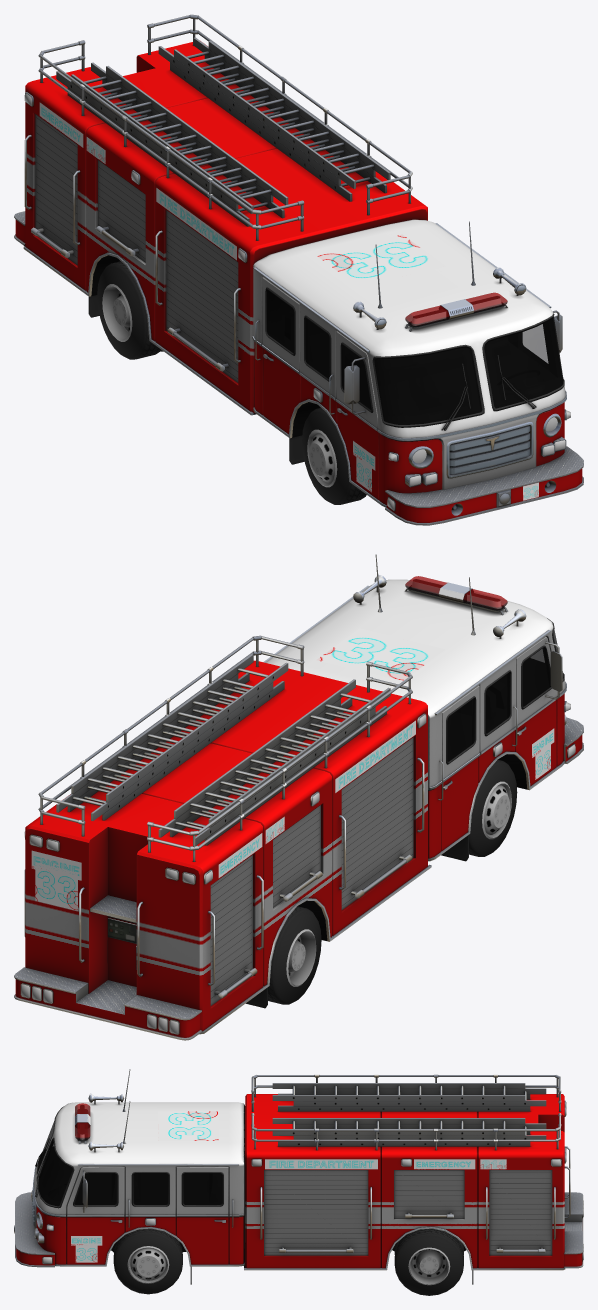
File: firetruck.fbx
The picture shows the model from 3 angles, top to bottom: view 1: azimuth 30°, elevation 25°; view 2: azimuth 150°, elevation 25°; view 3: azimuth 270°, elevation 25°; orthographic projection. The views are drawn at different scales.
Visible parts, largest first — view 1: fire_truck, firetruck_wheelRR, firetruck_wheelFR; view 2: fire_truck, firetruck_wheelRR, firetruck_wheelFR; view 3: fire_truck, firetruck_wheelRL, firetruck_wheelFL.
Boxes of the visible parts, bbox=[...] form: fire_truck: bbox=[14, 14, 583, 525]; firetruck_wheelRR: bbox=[97, 261, 163, 359]; firetruck_wheelFR: bbox=[302, 408, 366, 504]; fire_truck: bbox=[14, 554, 583, 1040]; firetruck_wheelRR: bbox=[268, 906, 321, 1004]; firetruck_wheelFR: bbox=[469, 759, 517, 856]; fire_truck: bbox=[14, 1069, 583, 1284]; firetruck_wheelRL: bbox=[394, 1228, 463, 1295]; firetruck_wheelFL: bbox=[113, 1228, 182, 1294].
Size of the model in its own units: 2708 by 3066 by 8732.
